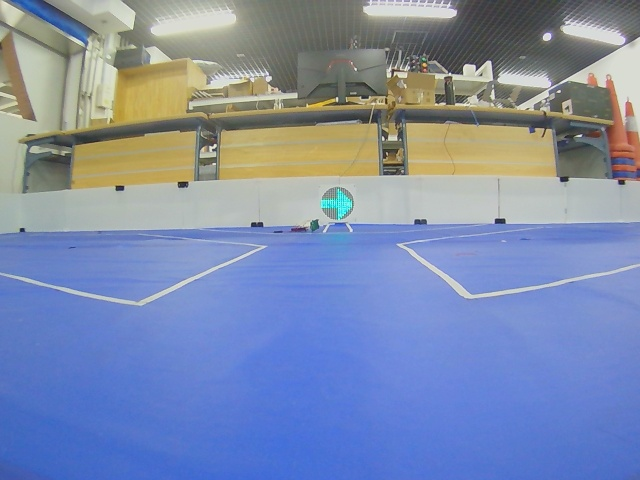right_green: (321, 187, 354, 220)
